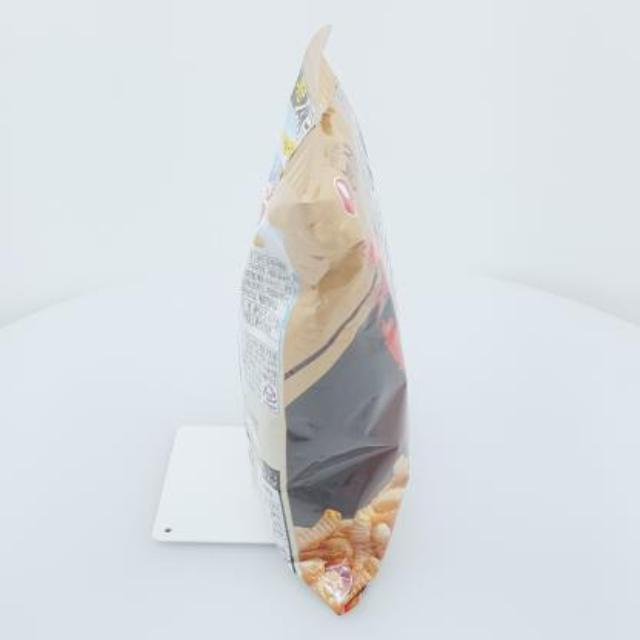snack_bag: (225, 14, 423, 624)
